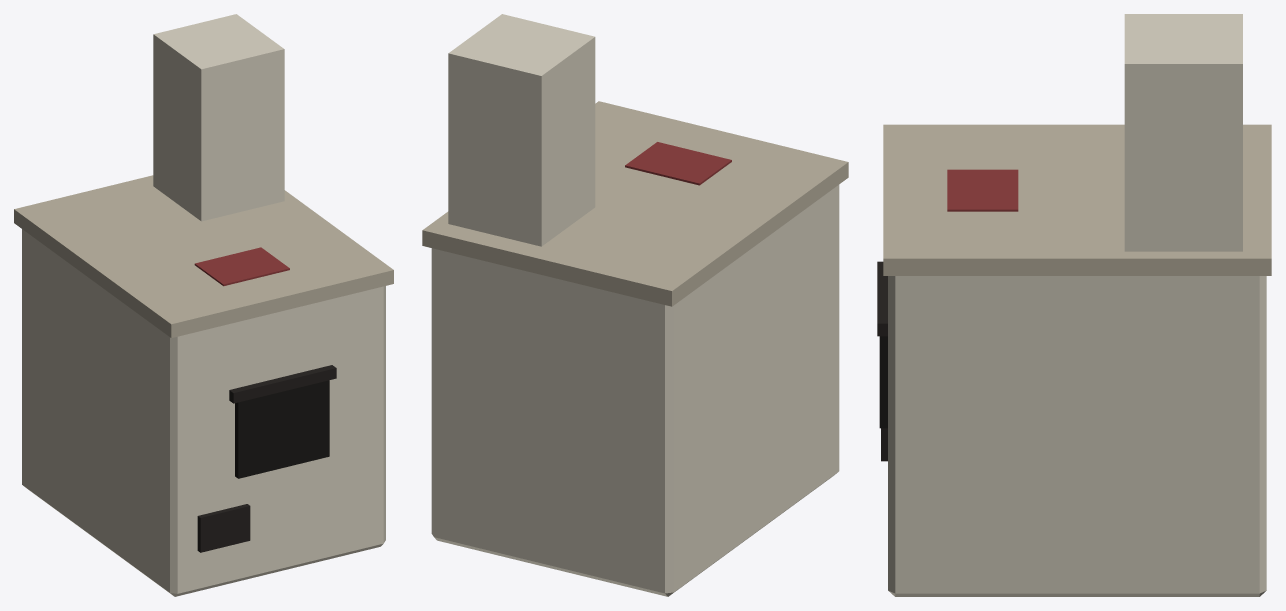
The model's file is russian_stove.glb.
The picture shows the model from 3 angles, left to right: view 1: azimuth 30°, elevation 25°; view 2: azimuth 150°, elevation 25°; view 3: azimuth 270°, elevation 25°; orthographic projection. The views are drawn at different scales.
Parts seen in each view (by area): view 1: RussianStove; view 2: RussianStove; view 3: RussianStove.
Boxes of the visible parts, x1=… form: RussianStove: x1=14, y1=14, x2=393, y2=596; RussianStove: x1=422, y1=14, x2=848, y2=596; RussianStove: x1=877, y1=14, x2=1271, y2=596.
Size of the model in its own units: 1.34 by 2.47 by 1.66.
